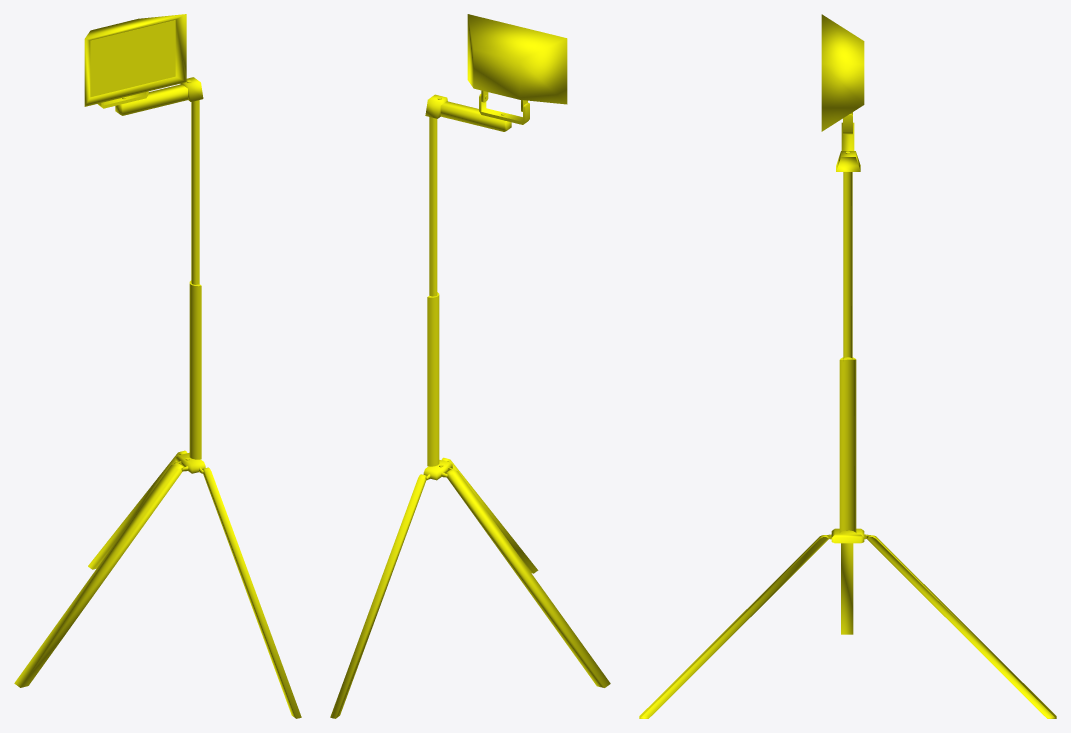
File: LightStand.fbx
3 renders of one model, left to right at view 1: azimuth 30°, elevation 25°; view 2: azimuth 150°, elevation 25°; view 3: azimuth 270°, elevation 25°, orthographic. The views are drawn at different scales.
Visible parts, largest first — view 1: Construction_Light_Double; view 2: Construction_Light_Double; view 3: Construction_Light_Double.
Boxes of the visible parts, left/top/right/bottom form: Construction_Light_Double: left=14, top=14, right=301, bottom=718; Construction_Light_Double: left=330, top=14, right=610, bottom=718; Construction_Light_Double: left=639, top=14, right=1056, bottom=718.
Bounding box in the file's own units: 50 × 170 × 99.97.
